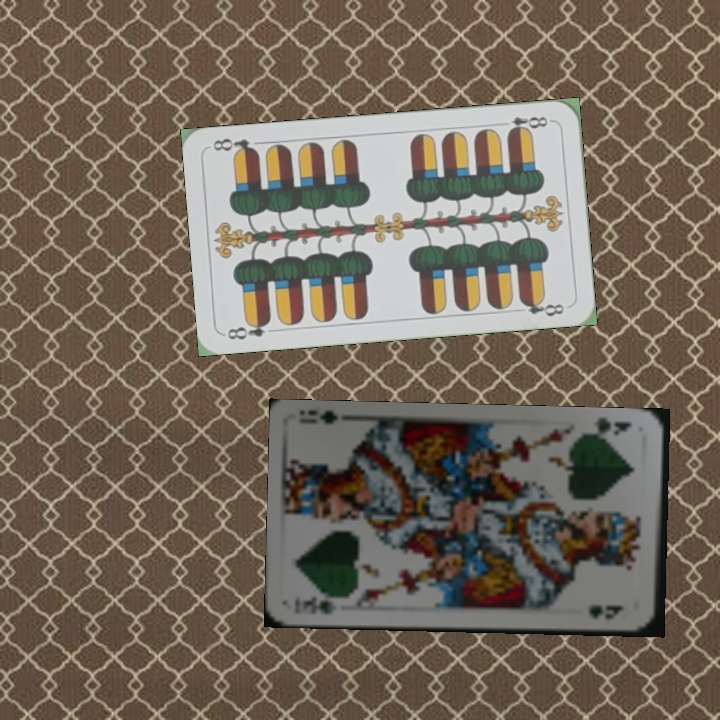E8: (223, 315, 274, 343), (503, 112, 555, 137)
GK: (590, 414, 634, 441), (298, 593, 339, 617)
